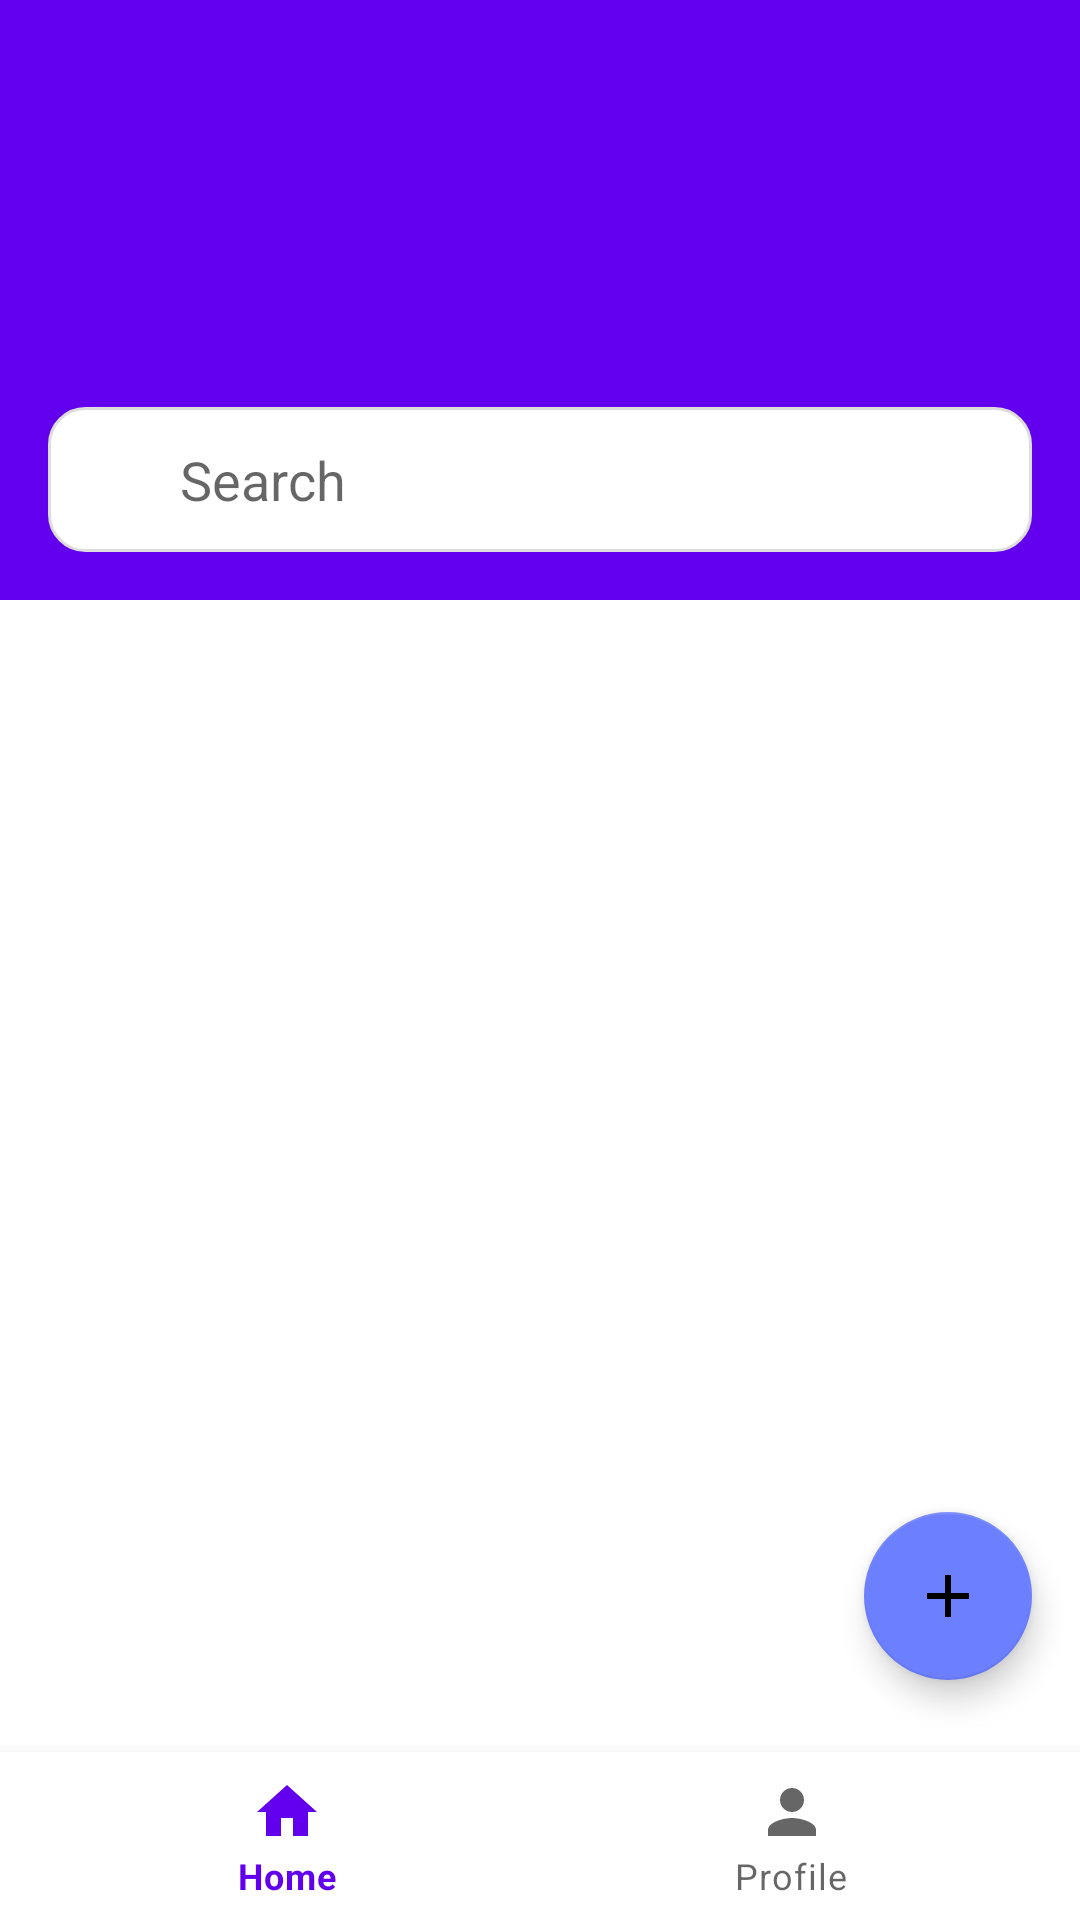

Screen size 1080 × 1920. Icon name, then its center in pixels as (x,y):
add: (948,1596)
